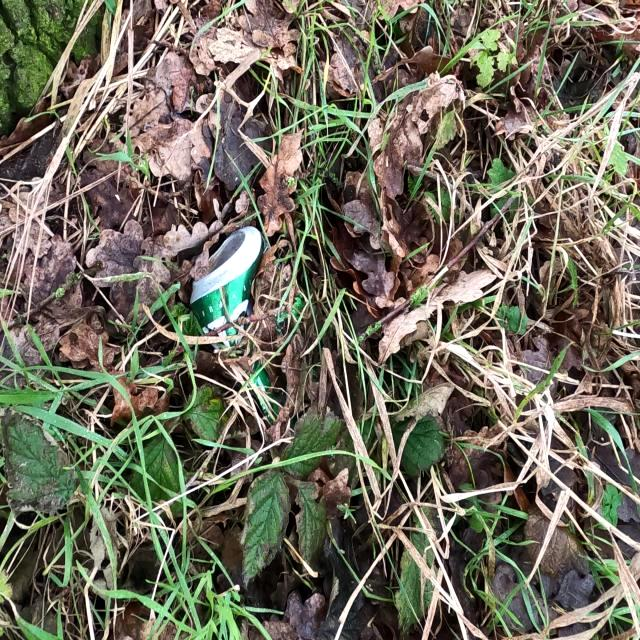Metal: (189, 222, 305, 430)
